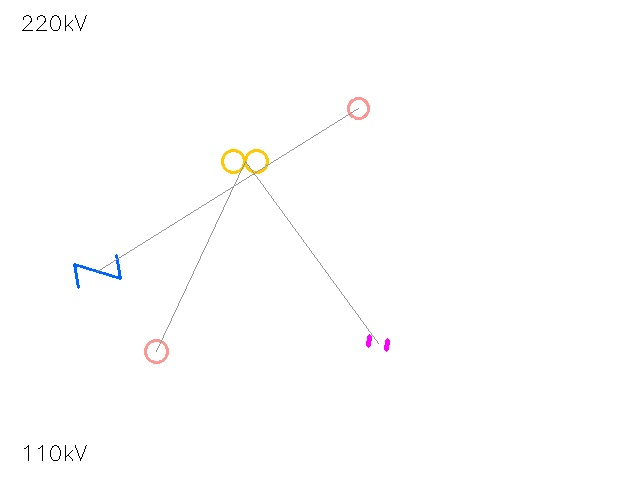capacitor: (363, 328, 393, 358)
circuit_breaker: (73, 247, 121, 295)
load_break_switch: (337, 87, 379, 129)
reactor: (134, 329, 178, 373)
transformer_2w: (217, 133, 273, 189)
